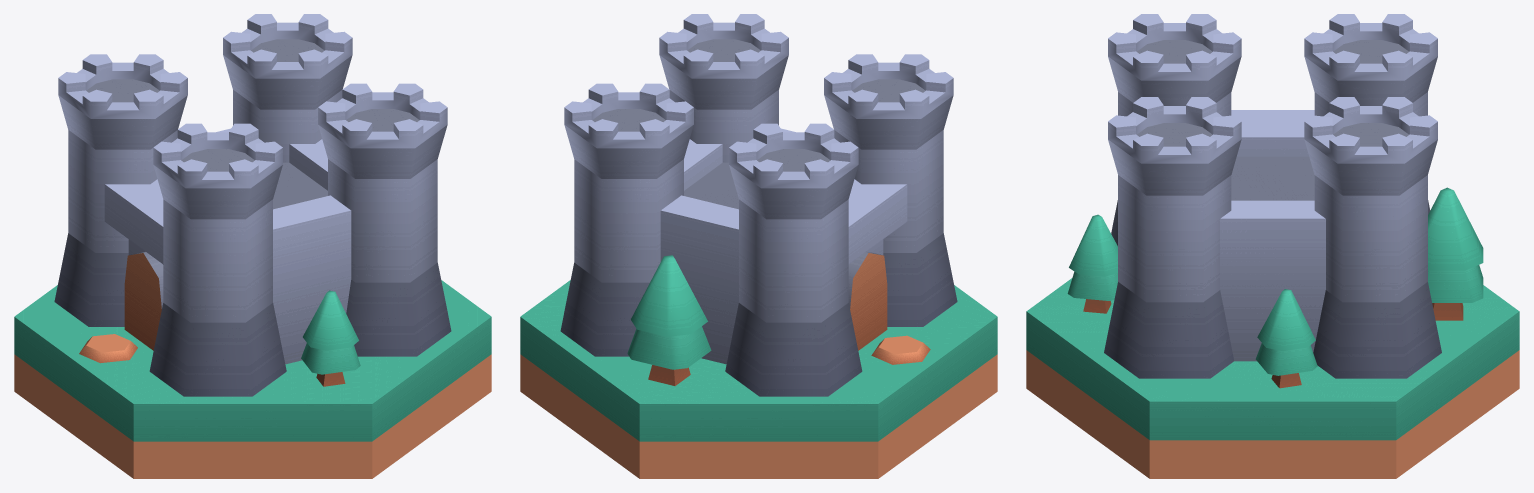
File: building-castle.glb
The picture shows the model from 3 angles, left to right: view 1: azimuth 30°, elevation 25°; view 2: azimuth 150°, elevation 25°; view 3: azimuth 270°, elevation 25°; orthographic projection. The views are drawn at different scales.
Parts seen in each view (by area): view 1: building-castle; view 2: building-castle; view 3: building-castle.
Boxes of the visible parts, left/top/right/bottom form: building-castle: left=14, top=14, right=491, bottom=478; building-castle: left=520, top=14, right=997, bottom=478; building-castle: left=1026, top=14, right=1519, bottom=478.
Bounding box in the file's own units: 10 × 7.98 × 11.55.
1 material, 1 textured.
